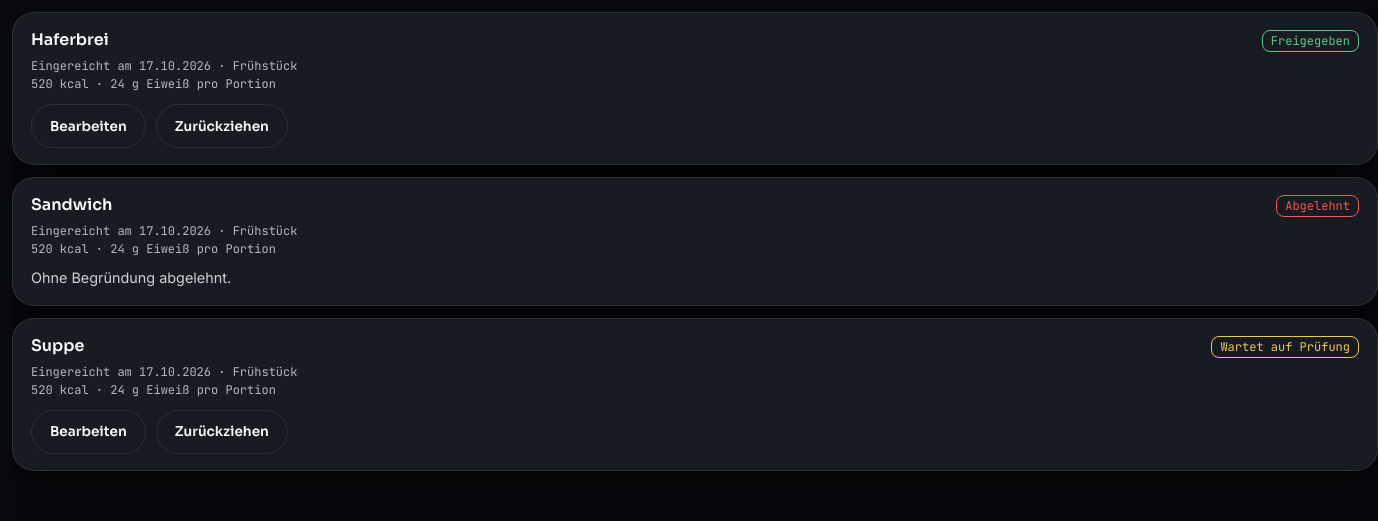
Test: MySubmissionsView — Verifizierte Autoren (Fahrplan 29 V3) › ein 409 ohne details bleibt 'inzwischen entschieden' (z. B. Verifizierung entzogen)
Step 1. Click the button with aria-label "Haferbrei zurückziehen" → (222, 126), box [156,104,288,148]
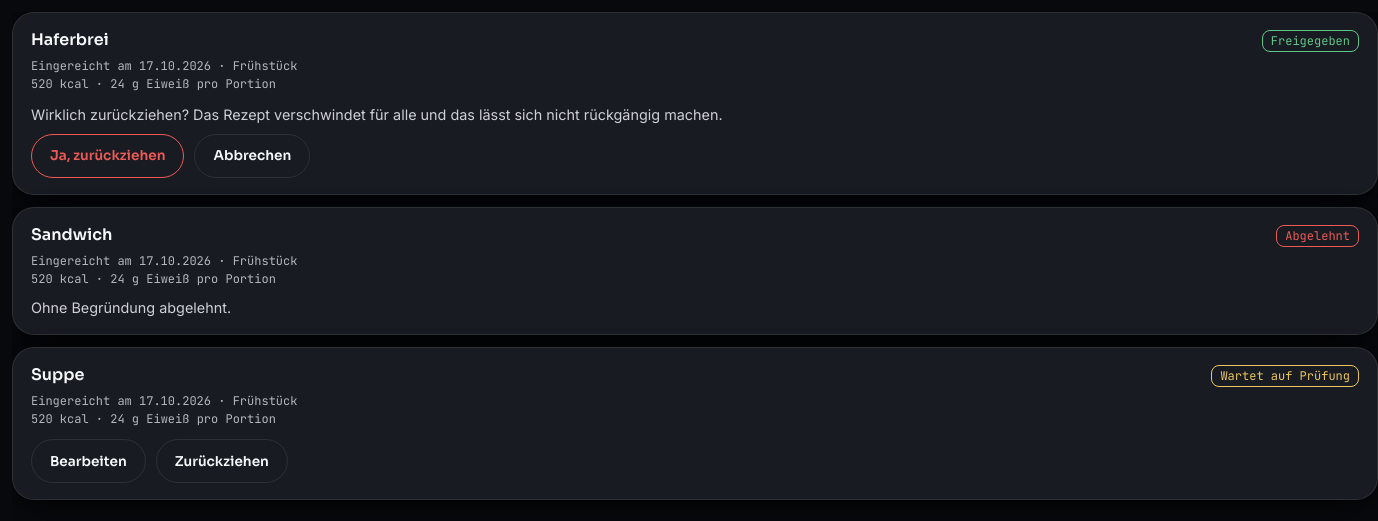
Step 2. Click the button "Ja, zurückziehen" → (108, 156), box [31,134,184,178]
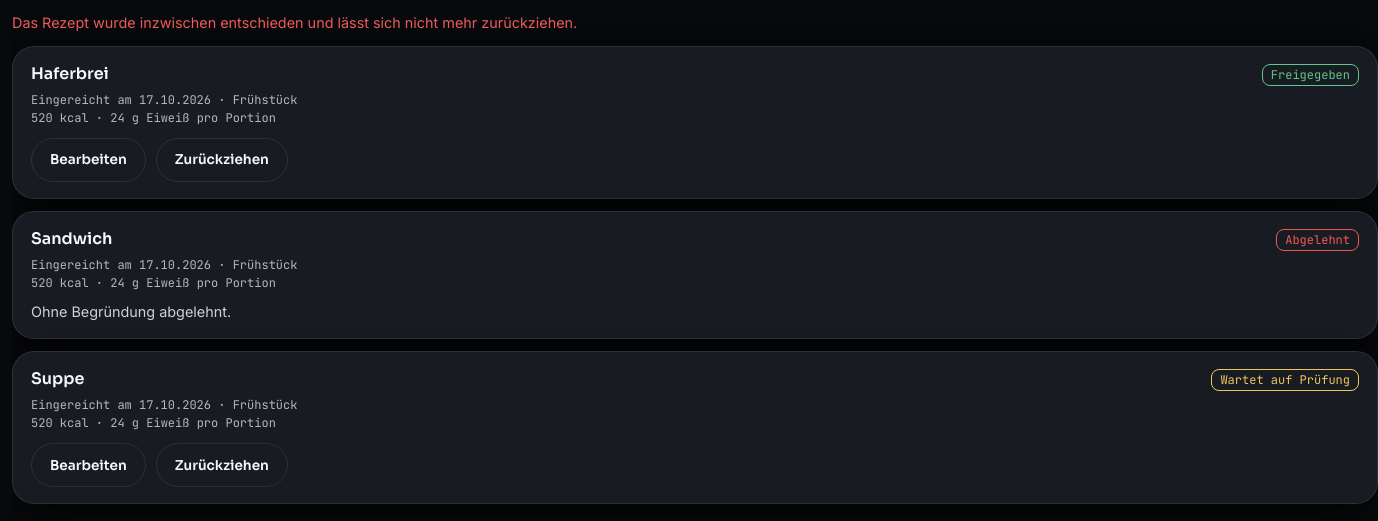
Result: the text "inzwischen entschieden" is shown at [12,14,577,31]
